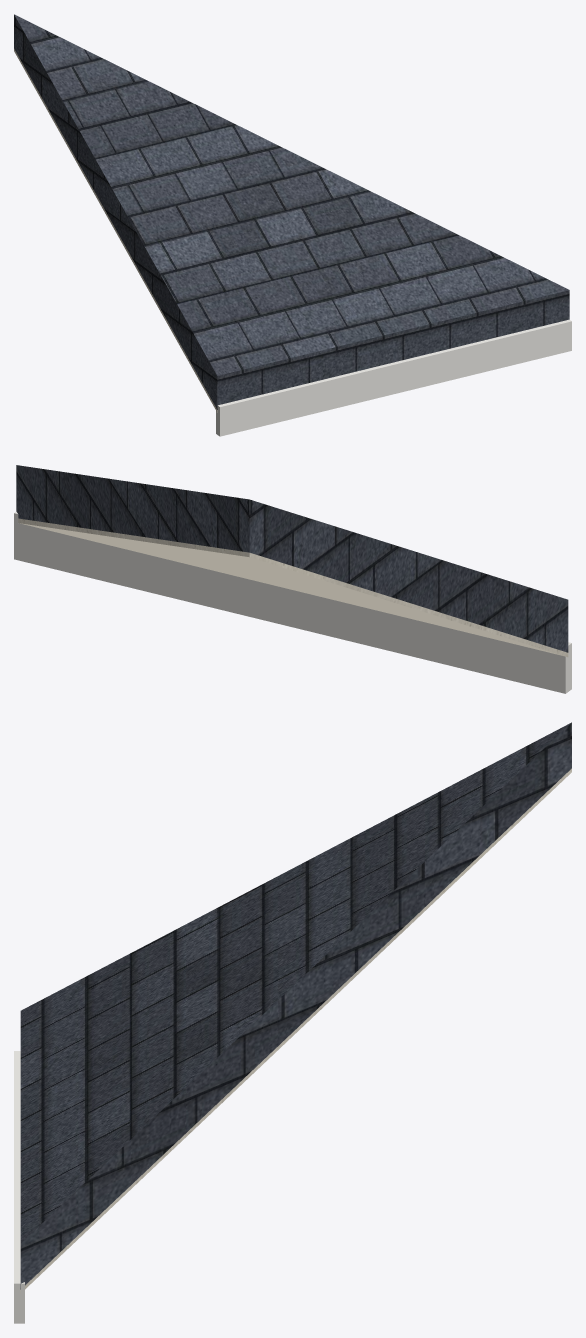
File: roof_hip_5.glb
The picture shows the model from 3 angles, top to bottom: view 1: azimuth 30°, elevation 25°; view 2: azimuth 150°, elevation 25°; view 3: azimuth 270°, elevation 25°; orthographic projection. The views are drawn at different scales.
Visible parts, largest first — view 1: roof_hip_5_shingle, roof_hip_5_trim, roof_hip_5_plaster; view 2: roof_hip_5_shingle, roof_hip_5_trim, roof_hip_5_plaster; view 3: roof_hip_5_shingle, roof_hip_5_plaster, roof_hip_5_trim.
Part boxes in pixels (x1=…): roof_hip_5_shingle: x1=14, y1=14, x2=569, y2=409; roof_hip_5_trim: x1=216, y1=319, x2=571, y2=436; roof_hip_5_plaster: x1=14, y1=48, x2=217, y2=412; roof_hip_5_shingle: x1=16, y1=465, x2=568, y2=652; roof_hip_5_trim: x1=14, y1=511, x2=571, y2=693; roof_hip_5_plaster: x1=18, y1=518, x2=568, y2=657; roof_hip_5_shingle: x1=20, y1=722, x2=571, y2=1289; roof_hip_5_plaster: x1=20, y1=768, x2=571, y2=1293; roof_hip_5_trim: x1=14, y1=1051, x2=24, y2=1323.
Size of the model in its own units: 2.5 by 1.84 by 2.53.
Materials: 3 (2 with a texture image).
